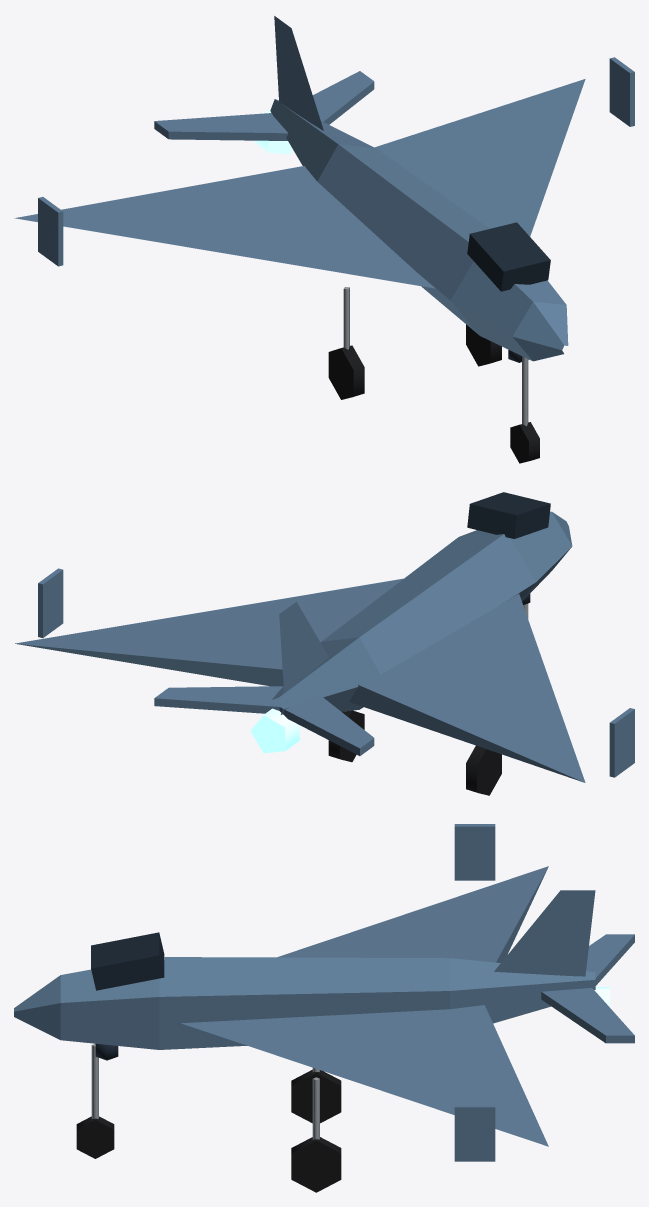
File: veh_air_fighter_a10_lod1.glb
The picture shows the model from 3 angles, top to bottom: view 1: azimuth 30°, elevation 25°; view 2: azimuth 150°, elevation 25°; view 3: azimuth 270°, elevation 25°; orthographic projection.
Visible parts, largest first — view 1: body, gear_1, gear_0, gear_2; view 2: body, gear_1, gear_2; view 3: body, gear_2, gear_1, gear_0.
Part boxes in pixels (box(x1,y1,x2,y2)): body: box(14, 16, 634, 362); gear_1: box(328, 287, 364, 399); gear_0: box(510, 356, 539, 463); gear_2: box(466, 324, 501, 366); body: box(15, 492, 634, 782); gear_1: box(466, 745, 501, 795); gear_2: box(328, 710, 364, 762); body: box(14, 824, 634, 1161); gear_2: box(291, 1077, 341, 1192); gear_1: box(291, 1068, 341, 1123); gear_0: box(76, 1043, 114, 1158).
Bounding box in the file's own units: 9.28 × 4.08 × 8.6.
